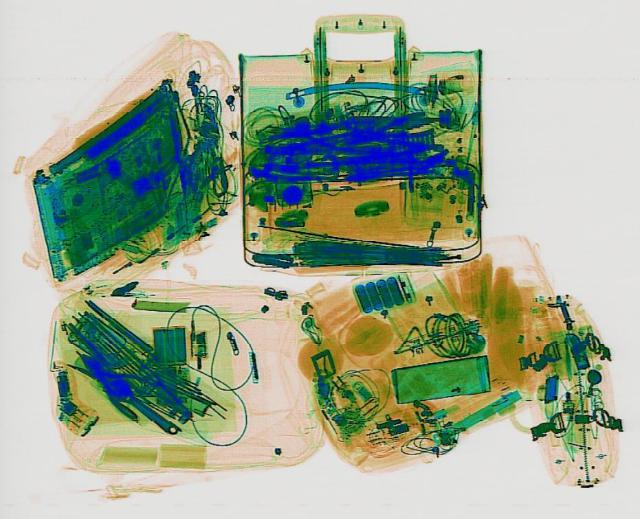Pliers: (61, 340, 167, 421)
